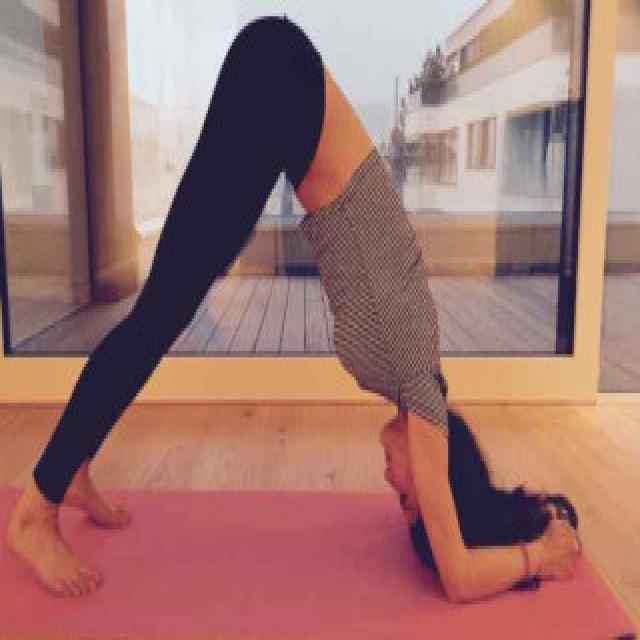yoga-pose downward: (8, 15, 588, 600)
